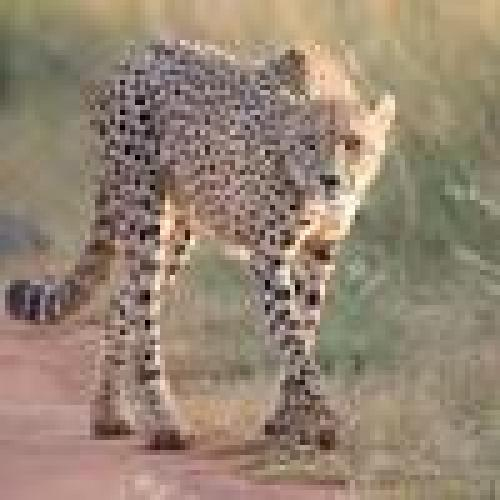cheetah-endangered: (37, 44, 386, 446)
